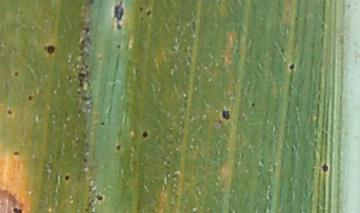tarspot: (112, 1, 124, 31), (42, 44, 57, 55), (319, 162, 331, 173), (220, 109, 231, 121), (94, 192, 105, 202), (80, 25, 91, 34), (10, 206, 23, 213), (287, 62, 296, 72), (114, 143, 123, 153), (140, 130, 149, 139), (81, 156, 90, 165), (145, 8, 153, 18), (63, 174, 71, 183), (11, 70, 20, 78), (77, 72, 86, 79), (78, 78, 84, 88), (6, 108, 13, 116), (75, 89, 83, 96), (84, 96, 92, 103), (139, 15, 145, 24), (249, 101, 256, 108), (26, 94, 33, 101), (115, 43, 122, 50), (83, 62, 90, 69), (12, 150, 20, 156), (138, 6, 144, 13), (99, 120, 105, 127), (88, 1, 95, 6), (81, 95, 85, 101)
